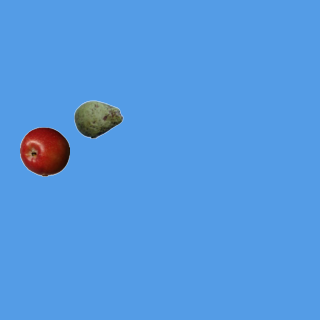Apple Braeburn: (19, 126, 69, 176)
Pear Stone: (73, 94, 123, 144)
